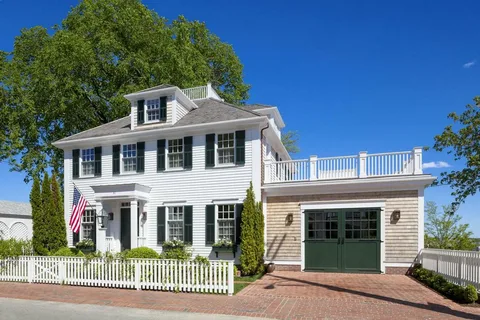private_hause: (67, 105, 276, 259)
